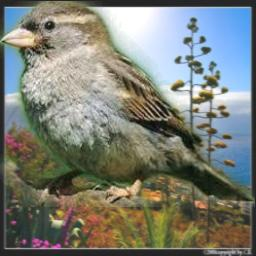Sparrow: (0, 1, 255, 207)
